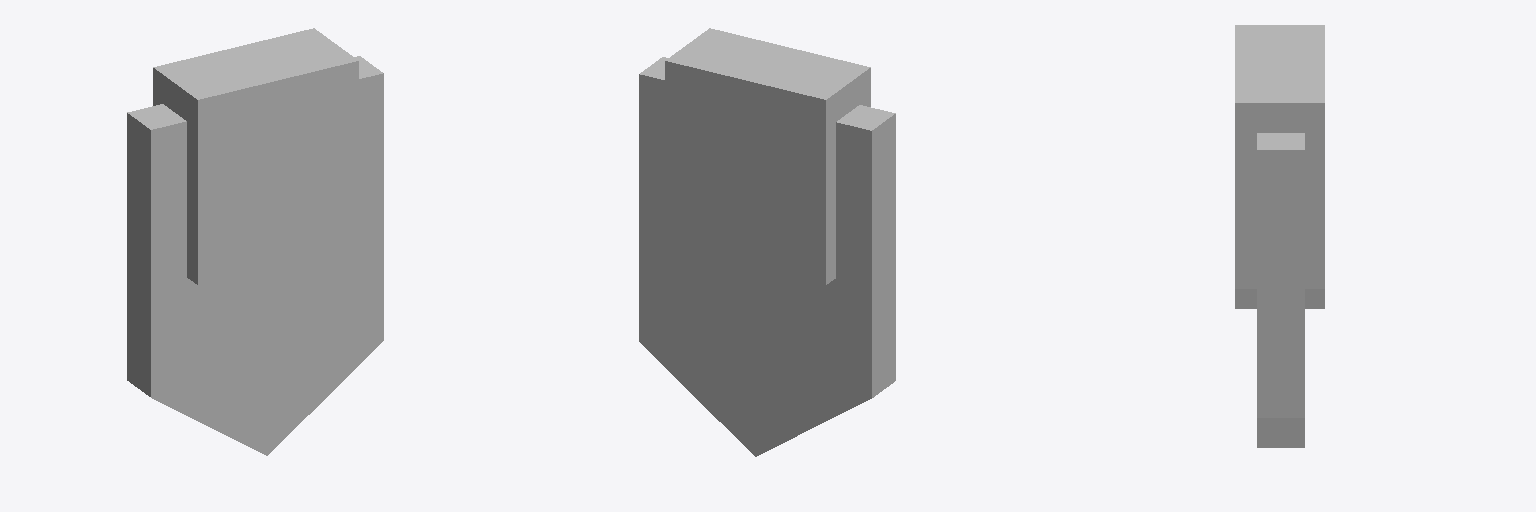
File: Loading Icon.obj
The picture shows the model from 3 angles: view 1: azimuth 30°, elevation 25°; view 2: azimuth 150°, elevation 25°; view 3: azimuth 270°, elevation 25°; orthographic projection.
Parts seen in each view (by area): view 1: Box001, Box002; view 2: Box001, Box002; view 3: Box002, Box001.
Boxes of the visible parts, x1=… form: Box001: x1=127, y1=56, x2=383, y2=455; Box002: x1=153, y1=28, x2=358, y2=325; Box001: x1=639, y1=57, x2=895, y2=456; Box002: x1=665, y1=28, x2=870, y2=325; Box002: x1=1235, y1=25, x2=1324, y2=308; Box001: x1=1257, y1=133, x2=1304, y2=447.
Bounding box in the file's own units: 30 × 47.28 × 9.97.